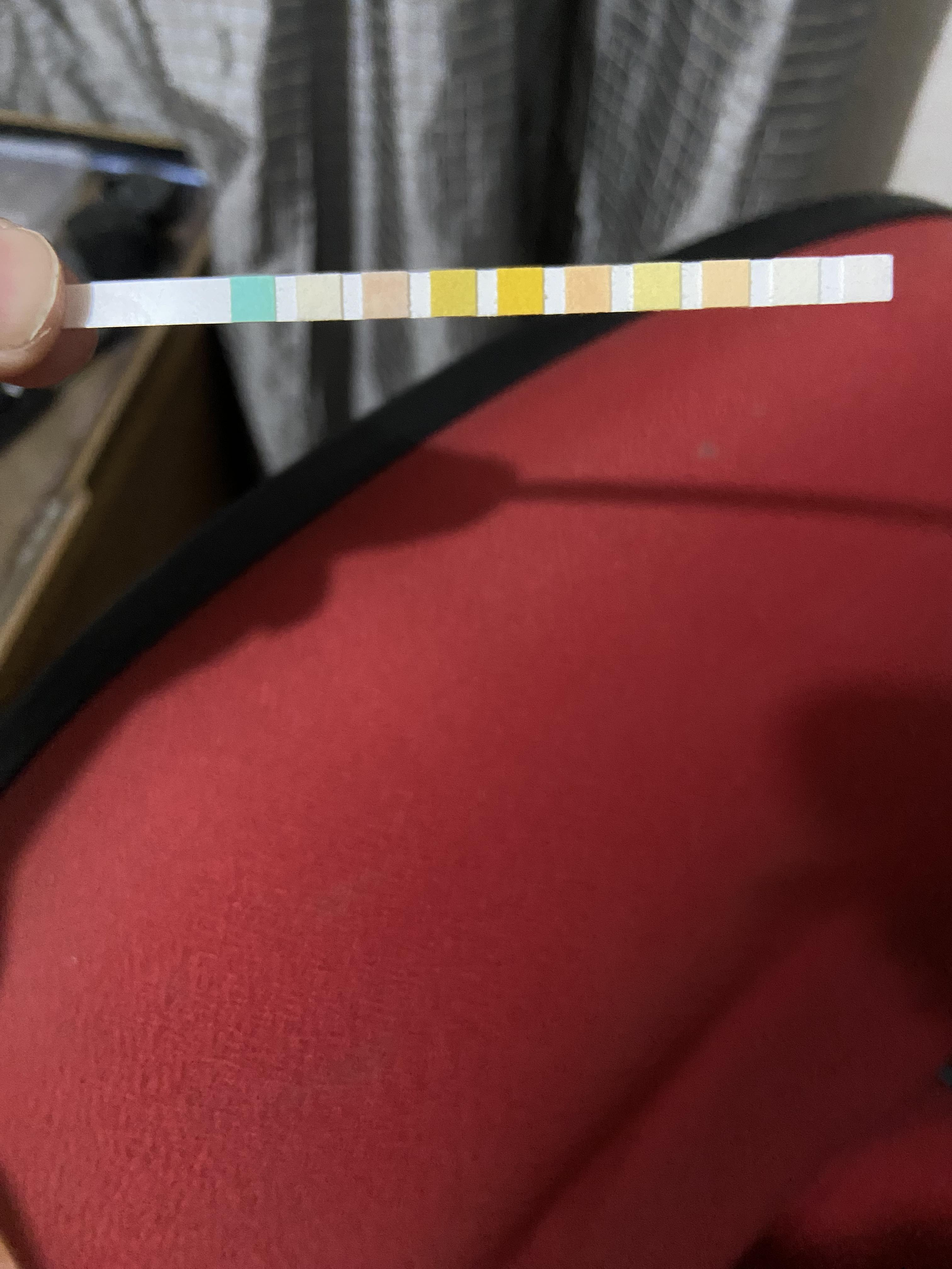Bilirubin: (300, 278, 340, 317)
Blood: (501, 272, 542, 313)
Glucose: (234, 280, 273, 319)
Ketone: (366, 276, 406, 318)
Leukocytes: (846, 258, 890, 300)
Nitrite: (775, 259, 817, 302)
Protein: (637, 265, 678, 310)
SpGravity: (433, 275, 473, 315)
Urobilinogen: (706, 264, 746, 305)
pH: (569, 269, 609, 312)
strip: (69, 256, 894, 330)
